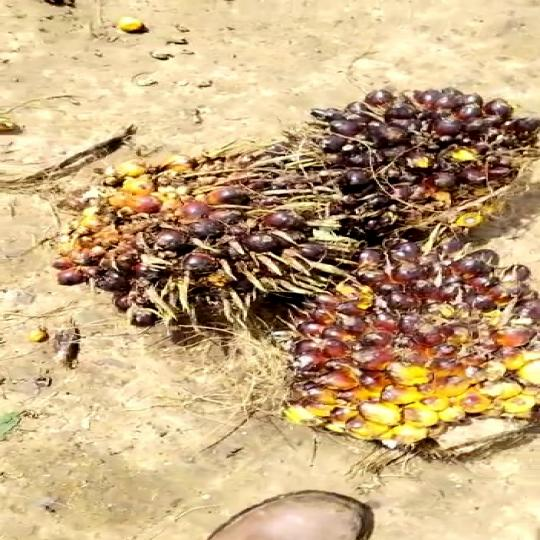kurang masak: (266, 242, 540, 465), (32, 127, 340, 323), (283, 73, 540, 220)
